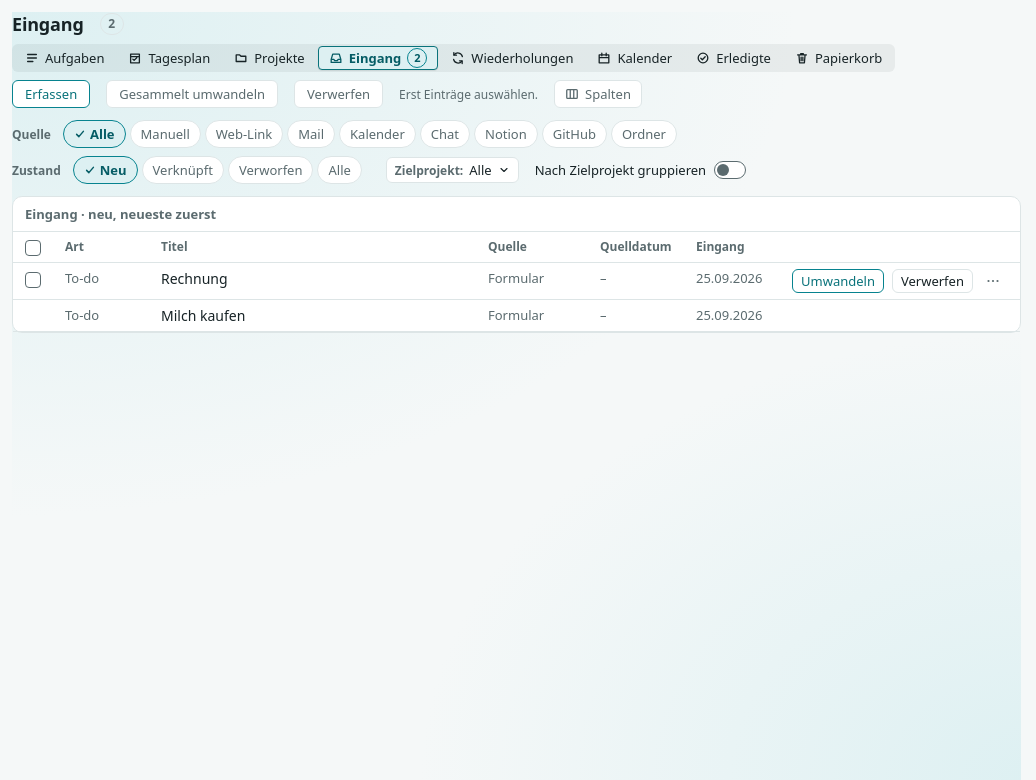
it: the inbox with an entry "＋" put into it (A2) › leaves it out of "Alle angezeigten Einträge auswählen"
This screenshot has width=1036, height=780.
expect the table is shown: met, box [13,197,1020,332]
Click the checkbox named "Alle angezeigten Einträge auswählen".
click(33, 248)  # box [25,240,41,256]
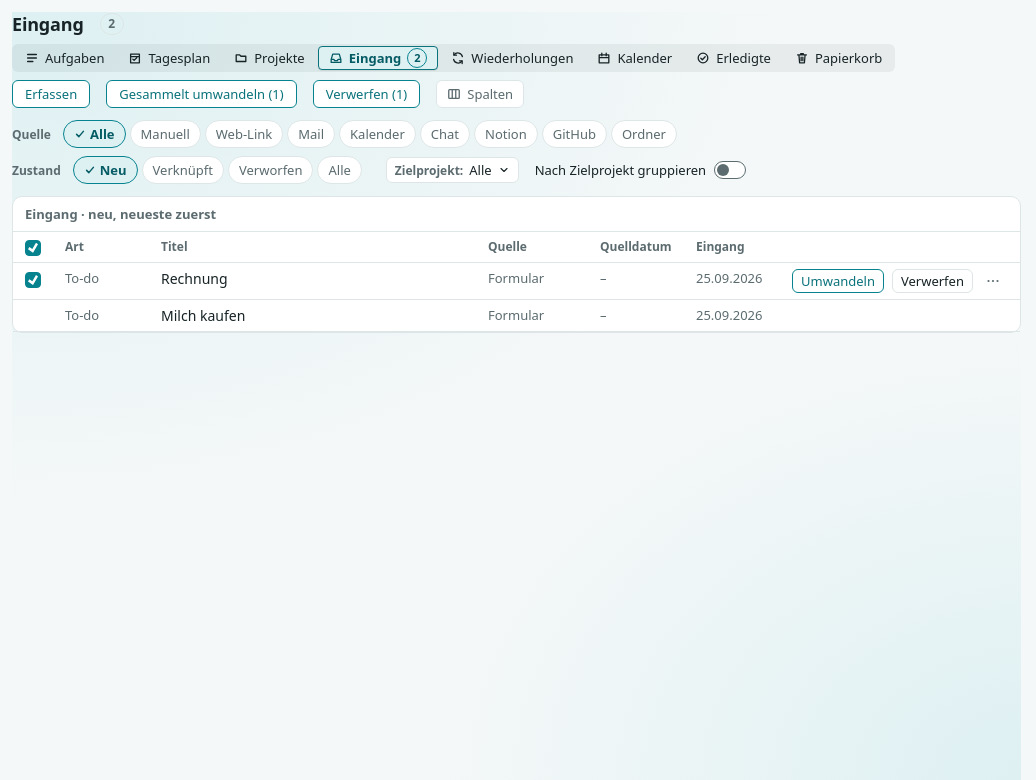
expect the button "Gesammelt umwandeln (1)" is shown: met, box [106,80,297,108]
